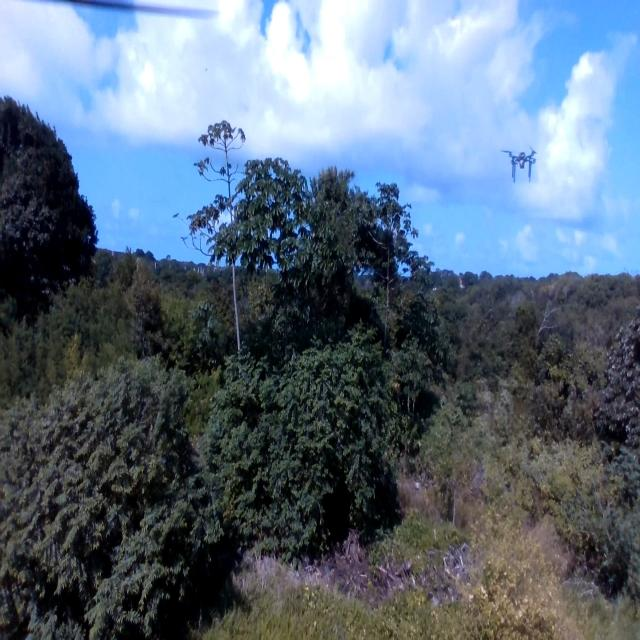-uav-: (494, 135, 544, 192)
